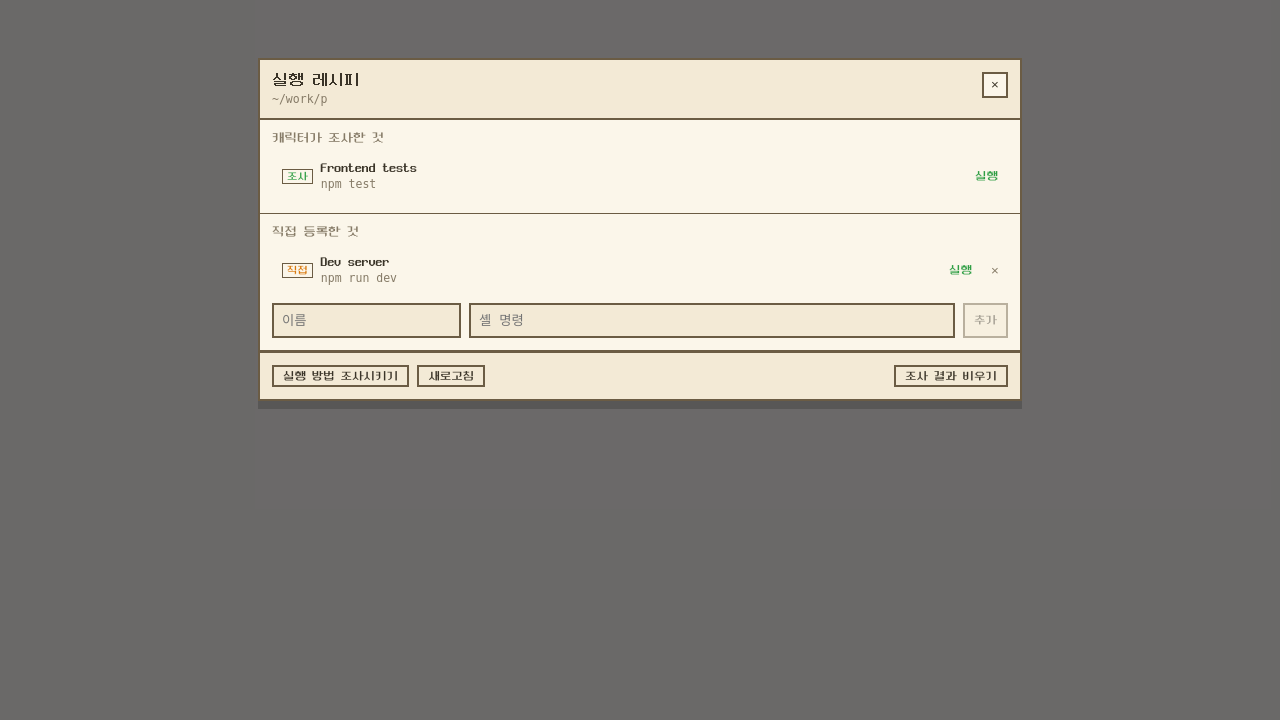
Test case: RunPalette › 실행 제출 중 연속 클릭을 무시하고 백엔드가 정규화한 root를 쓴다
Click the button "조사 Frontend tests npm test 실행": (297, 176) [272, 152, 1008, 201]
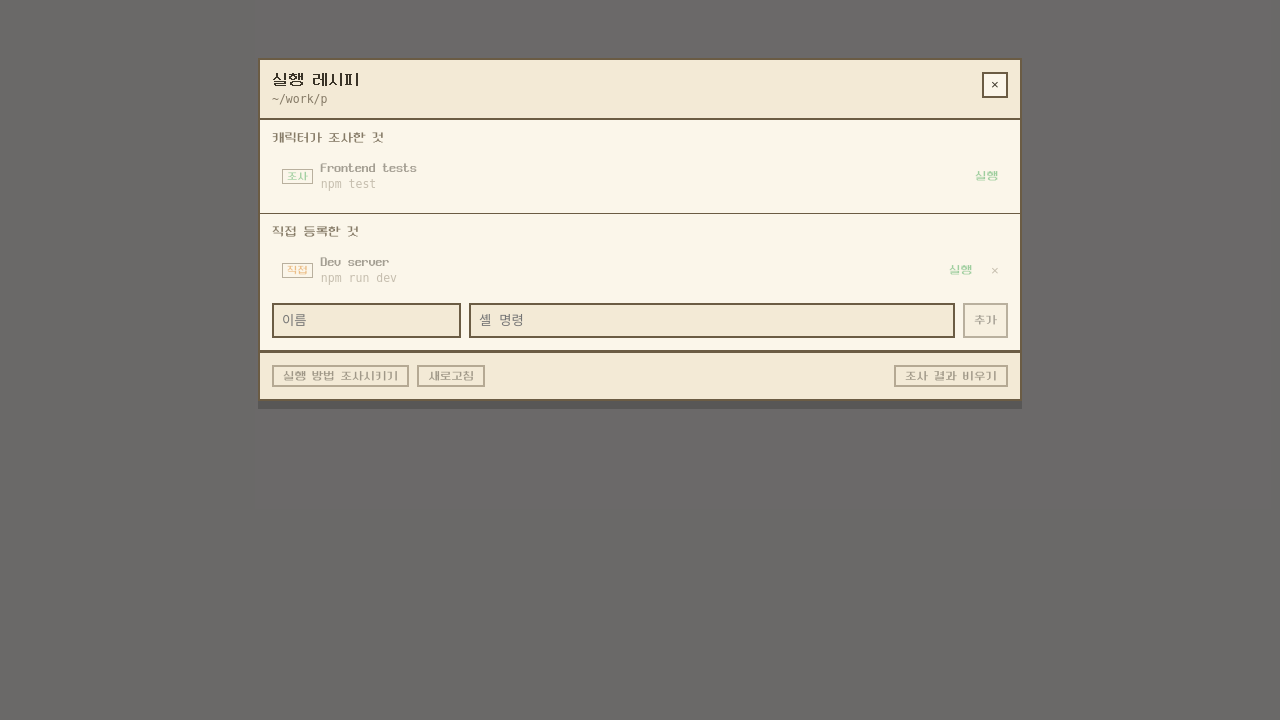
Click the button "조사 Frontend tests npm test 실행": (297, 176) [272, 152, 1008, 201]
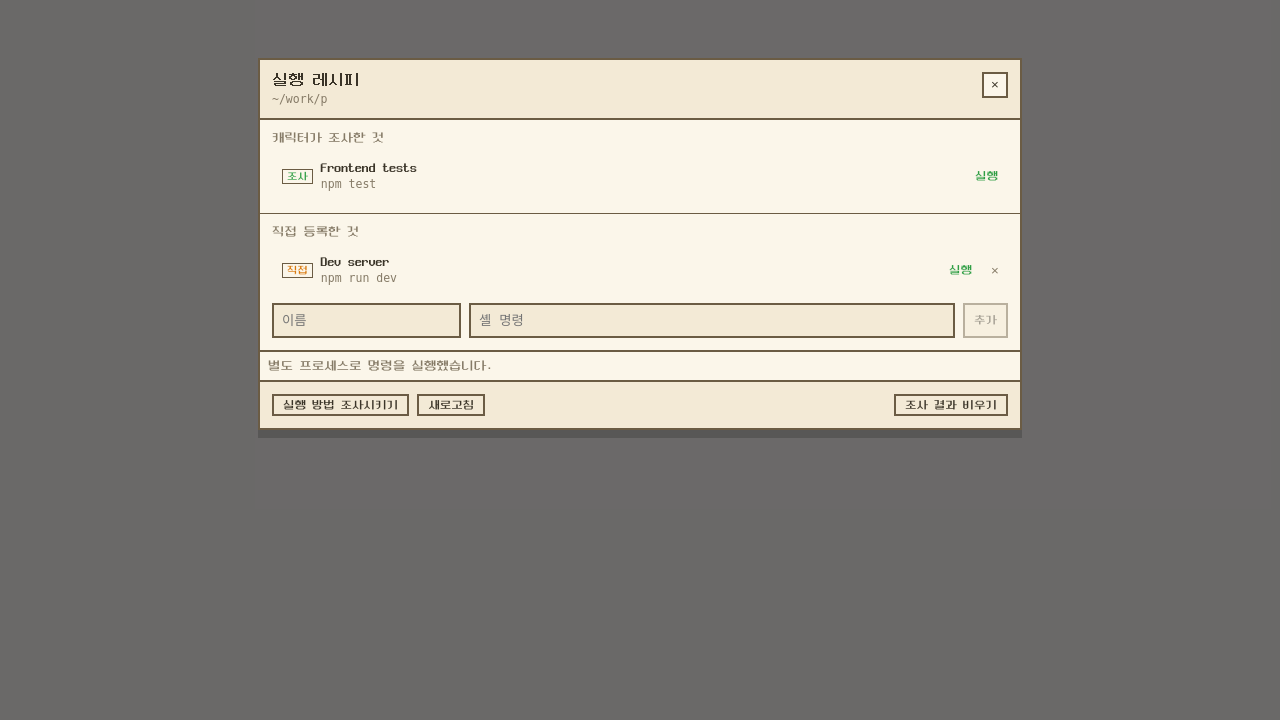
expect the button "조사 Frontend tests npm test 실행" is enabled: met, box [272, 152, 1008, 201]
